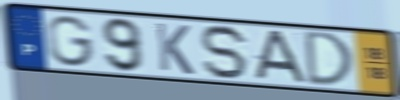9: (99, 16, 144, 75)
A: (249, 29, 310, 86)
D: (304, 29, 356, 87)
G: (45, 14, 97, 69)
K: (153, 20, 197, 77)
S: (199, 23, 252, 81)
